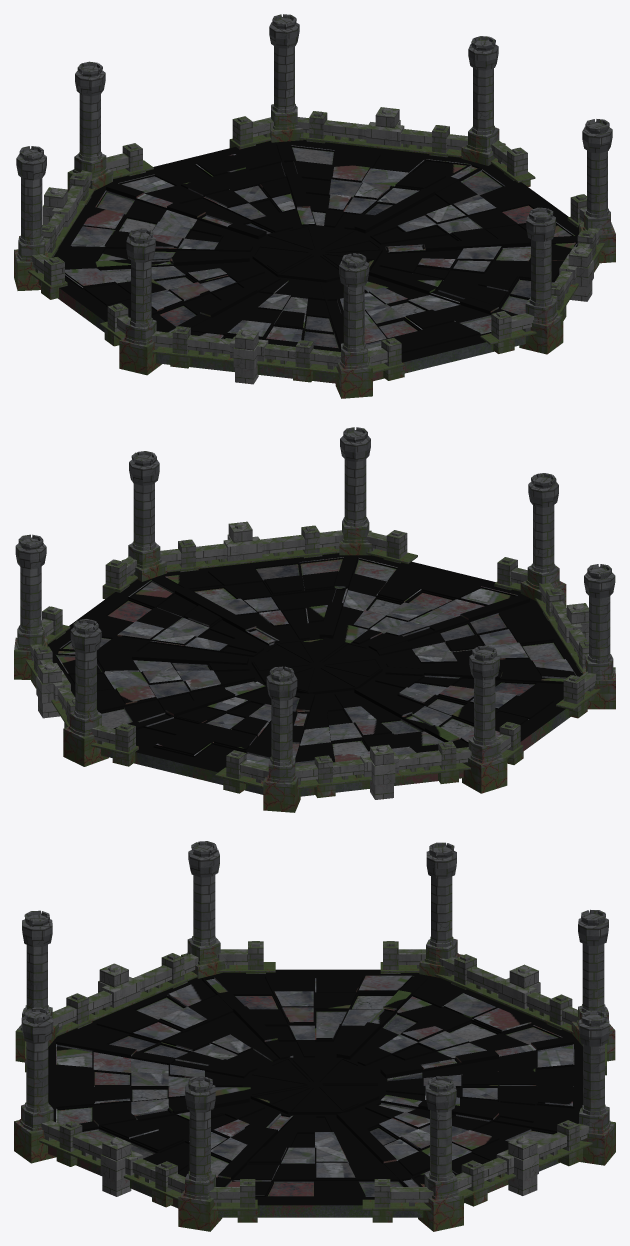
Rendered from arena 1.fbx.
3 views of the same model, one above another, from view 1: azimuth 30°, elevation 25°; view 2: azimuth 150°, elevation 25°; view 3: azimuth 270°, elevation 25° (orthographic). The views are drawn at different scales.
Parts seen in each view (by area): view 1: Arena.001, Arena_Pillar.007, Arena_Pillar.008, Arena_Pillar.006, Arena_Pillar.001, upper_Railling.005, Arena_Pillar.005, Arena_Pillar.002, Arena_Pillar.004, Arena_Pillar.003, upper_Railling.006, Lower_Railing.005 (+11 smaller); view 2: Arena.001, Arena_Pillar.001, Arena_Pillar.002, Arena_Pillar.003, Arena_Pillar.008, Arena_Pillar.004, Arena_Pillar.006, Arena_Pillar.005, Arena_Pillar.007, upper_Railling.008, upper_Railling.007, Lower_Railing.008 (+11 smaller); view 3: Arena.001, Arena_Pillar.004, Arena_Pillar.005, Arena_Pillar.006, Arena_Pillar.003, Arena_Pillar.008, Arena_Pillar.001, upper_Railling.007, Arena_Pillar.002, upper_Railling.006, Arena_Pillar.007, upper_Railling.005 (+9 smaller).
Part boxes in pixels (<box>): Arena.001: <box>38,140,578,383</box>; Arena_Pillar.007: <box>335,253,372,398</box>; Arena_Pillar.008: <box>119,228,161,375</box>; Arena_Pillar.006: <box>519,207,563,354</box>; Arena_Pillar.001: <box>14,146,48,290</box>; upper_Railling.005: <box>152,329,340,384</box>; Arena_Pillar.005: <box>579,119,615,263</box>; Arena_Pillar.002: <box>67,61,112,192</box>; Arena_Pillar.004: <box>461,36,505,165</box>; Arena_Pillar.003: <box>269,14,303,142</box>; upper_Railling.006: <box>297,107,467,150</box>; Lower_Railing.005: <box>152,326,338,382</box>; Arena.001: <box>48,553,588,796</box>; Arena_Pillar.001: <box>462,645,507,793</box>; Arena_Pillar.002: <box>263,666,300,812</box>; Arena_Pillar.003: <box>63,619,108,766</box>; Arena_Pillar.008: <box>583,564,615,709</box>; Arena_Pillar.004: <box>14,534,47,679</box>; Arena_Pillar.006: <box>339,427,371,555</box>; Arena_Pillar.005: <box>121,451,166,581</box>; Arena_Pillar.007: <box>520,473,566,606</box>; upper_Railling.008: <box>295,744,471,799</box>; upper_Railling.007: <box>160,521,343,564</box>; Lower_Railing.008: <box>297,741,470,797</box>; Arena.001: <box>48,969,583,1217</box>; Arena_Pillar.004: <box>418,1076,463,1231</box>; Arena_Pillar.005: <box>178,1076,222,1231</box>; Arena_Pillar.006: <box>14,1007,56,1163</box>; Arena_Pillar.003: <box>578,1010,615,1165</box>; Arena_Pillar.008: <box>181,841,227,978</box>; Arena_Pillar.001: <box>419,842,462,977</box>; upper_Railling.007: <box>41,1120,185,1196</box>; Arena_Pillar.002: <box>571,909,615,1061</box>; upper_Railling.006: <box>455,1123,589,1195</box>; Arena_Pillar.007: <box>15,910,58,1062</box>; upper_Railling.005: <box>52,953,198,1026</box>.
Size of the model in its own units: 5829 by 1503 by 5824.
